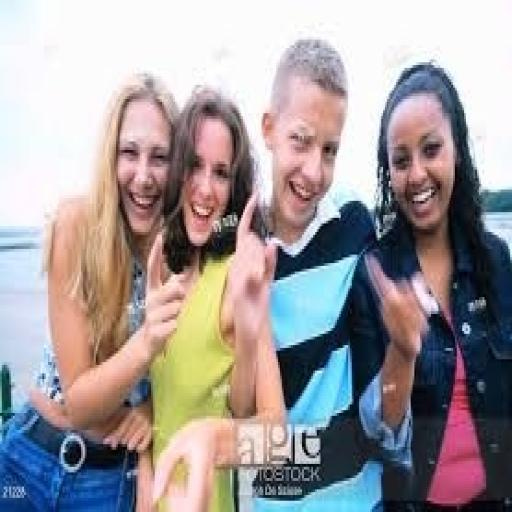laughing: (18, 31, 506, 504)
